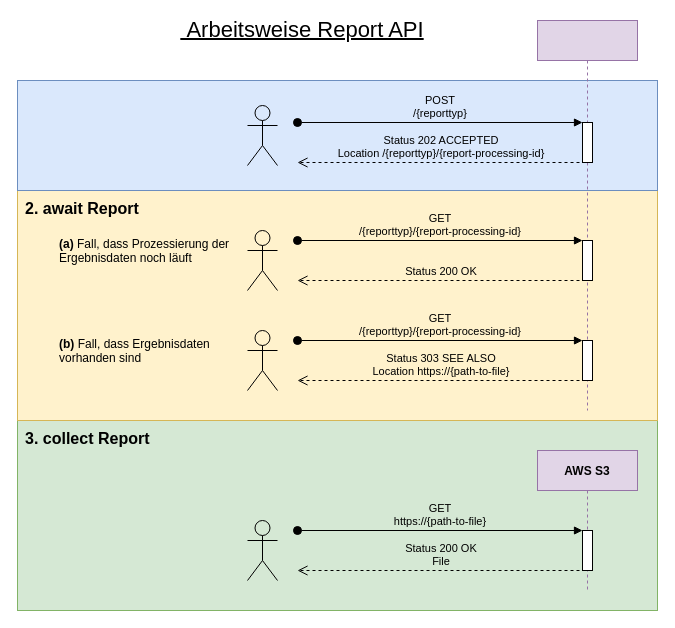
Some shapes in this 675 by 628 pixel diagram are drawn without their labels. Each missing label, with the box of its shape:
1. request Report: (16, 80, 658, 190)
Report API: (536, 20, 638, 410)
